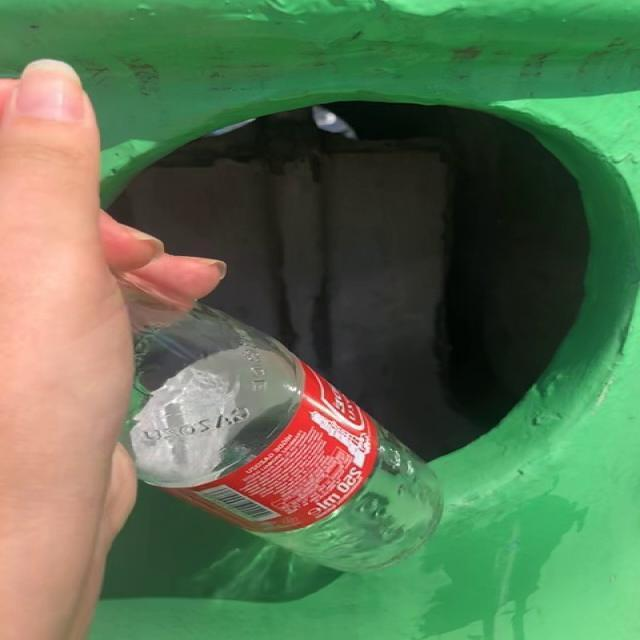Glass: (123, 305, 441, 572)
